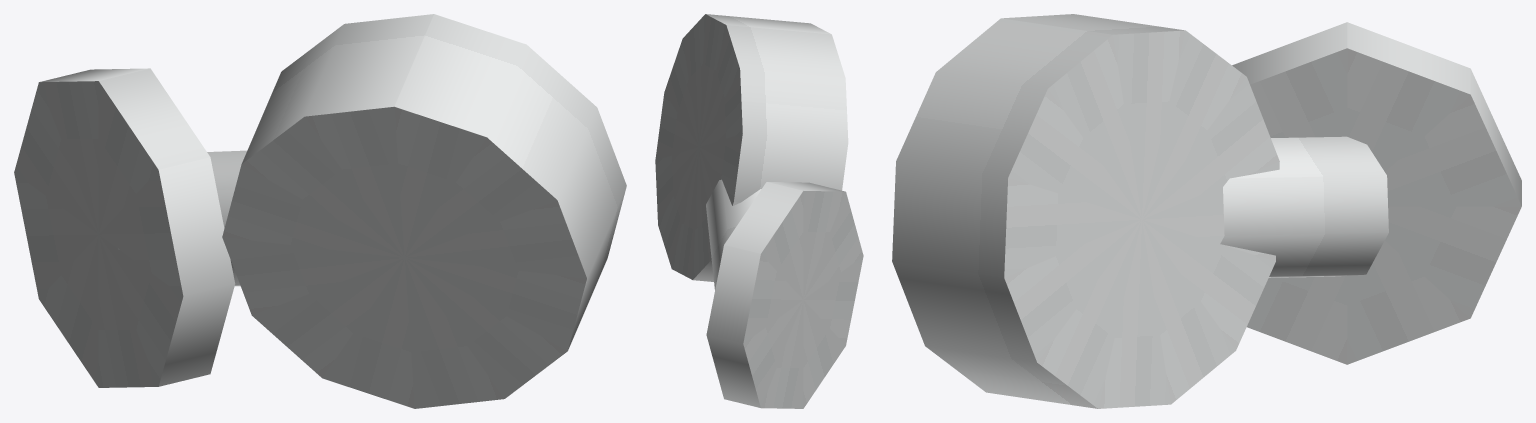
Rendered from nycsignalarm_stub_75.obj.
3 views of the same model, side by side, from view 1: azimuth 30°, elevation 25°; view 2: azimuth 150°, elevation 25°; view 3: azimuth 270°, elevation 25° (orthographic). The views are drawn at different scales.
Visible parts, largest first — view 1: nycsignalarm_stub_75; view 2: nycsignalarm_stub_75; view 3: nycsignalarm_stub_75.
Part boxes in pixels (left/top/right/bottom): nycsignalarm_stub_75: left=14, top=14, right=626, bottom=408; nycsignalarm_stub_75: left=655, top=14, right=863, bottom=408; nycsignalarm_stub_75: left=892, top=14, right=1521, bottom=408.
Bounding box in the file's own units: 0.4323 × 0.4595 × 0.6309.
